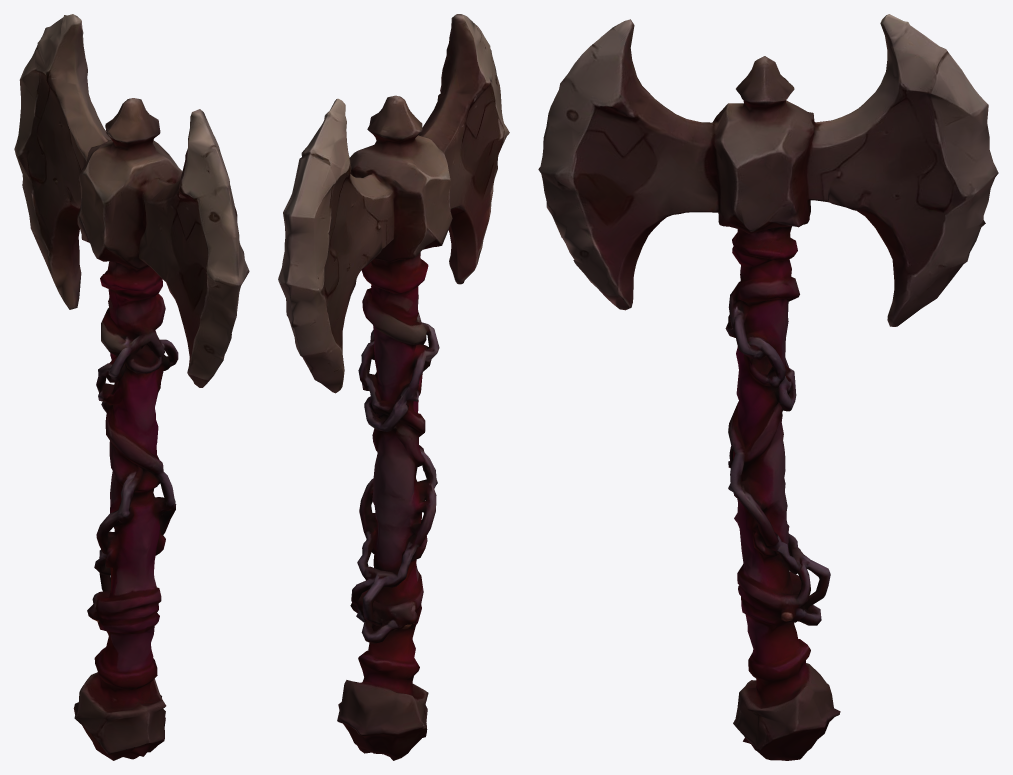
The model's file is axe-twin.glb.
3 renders of one model, left to right at view 1: azimuth 30°, elevation 25°; view 2: azimuth 150°, elevation 25°; view 3: azimuth 270°, elevation 25°, orthographic. The views are drawn at different scales.
Visible parts, largest first — view 1: tripo_node_e3d7adef-623f-43ac-9a7f-a8806eaa33d8; view 2: tripo_node_e3d7adef-623f-43ac-9a7f-a8806eaa33d8; view 3: tripo_node_e3d7adef-623f-43ac-9a7f-a8806eaa33d8.
Part boxes in pixels (<box>): tripo_node_e3d7adef-623f-43ac-9a7f-a8806eaa33d8: <box>14,14,249,760</box>; tripo_node_e3d7adef-623f-43ac-9a7f-a8806eaa33d8: <box>278,14,509,760</box>; tripo_node_e3d7adef-623f-43ac-9a7f-a8806eaa33d8: <box>538,14,998,760</box>.
Size of the model in its own units: 0.1318 by 1 by 0.5653.
Materials: 1 (1 with a texture image).
